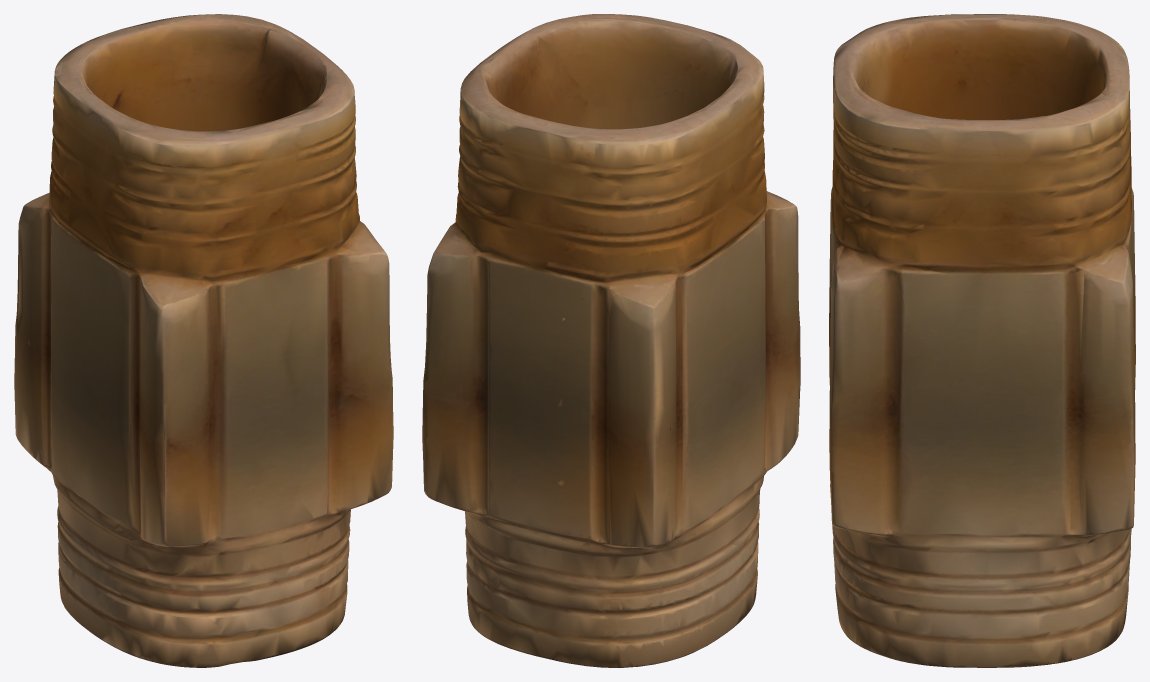
The model's file is fuhao-cord-roaming.glb.
The picture shows the model from 3 angles, left to right: view 1: azimuth 30°, elevation 25°; view 2: azimuth 150°, elevation 25°; view 3: azimuth 270°, elevation 25°; orthographic projection. The views are drawn at different scales.
Visible parts, largest first — view 1: node_0; view 2: node_0; view 3: node_0.
Part boxes in pixels (<box>): node_0: <box>14,14,393,667</box>; node_0: <box>422,14,800,667</box>; node_0: <box>829,14,1135,667</box>.
Bounding box in the file's own units: 0.5003 × 1.08 × 0.5468.
1 material, 1 textured.
